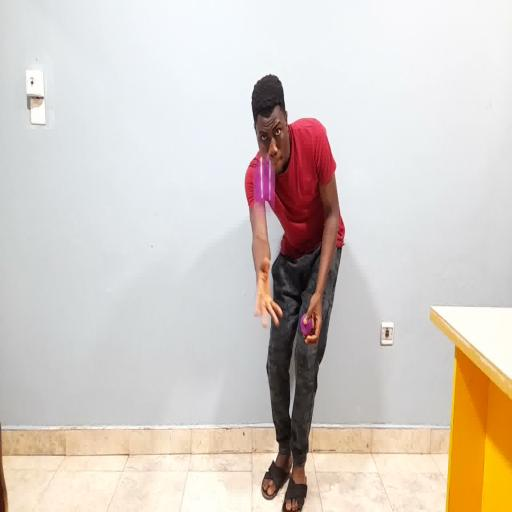plastic-ball: (253, 154, 277, 213)
